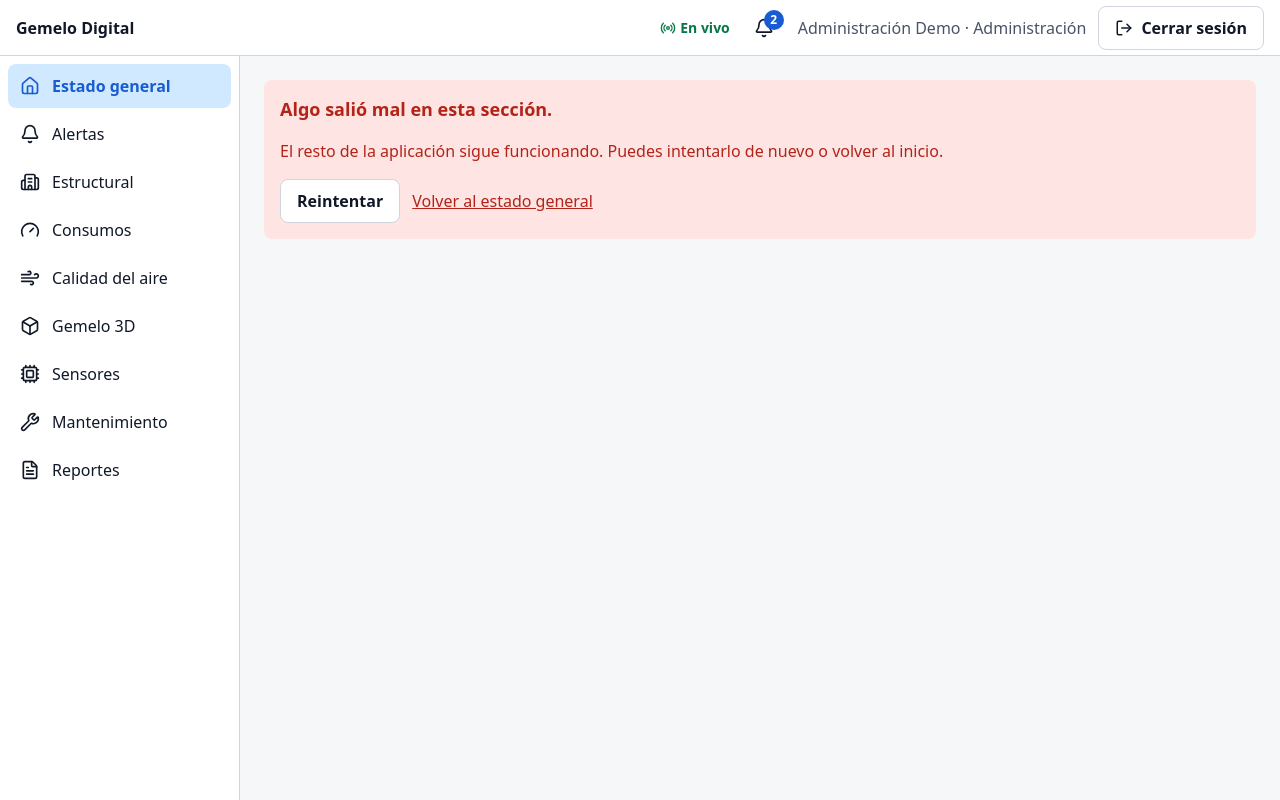
Scenario: RouteErrorBoundary › "Reintentar" vuelve a renderizar la sección
Expected: the heading "Algo salió mal en esta sección." is shown, [280,97,552,121]
Click the button "Reintentar". click: (340, 201)
box: [280,179,400,223]
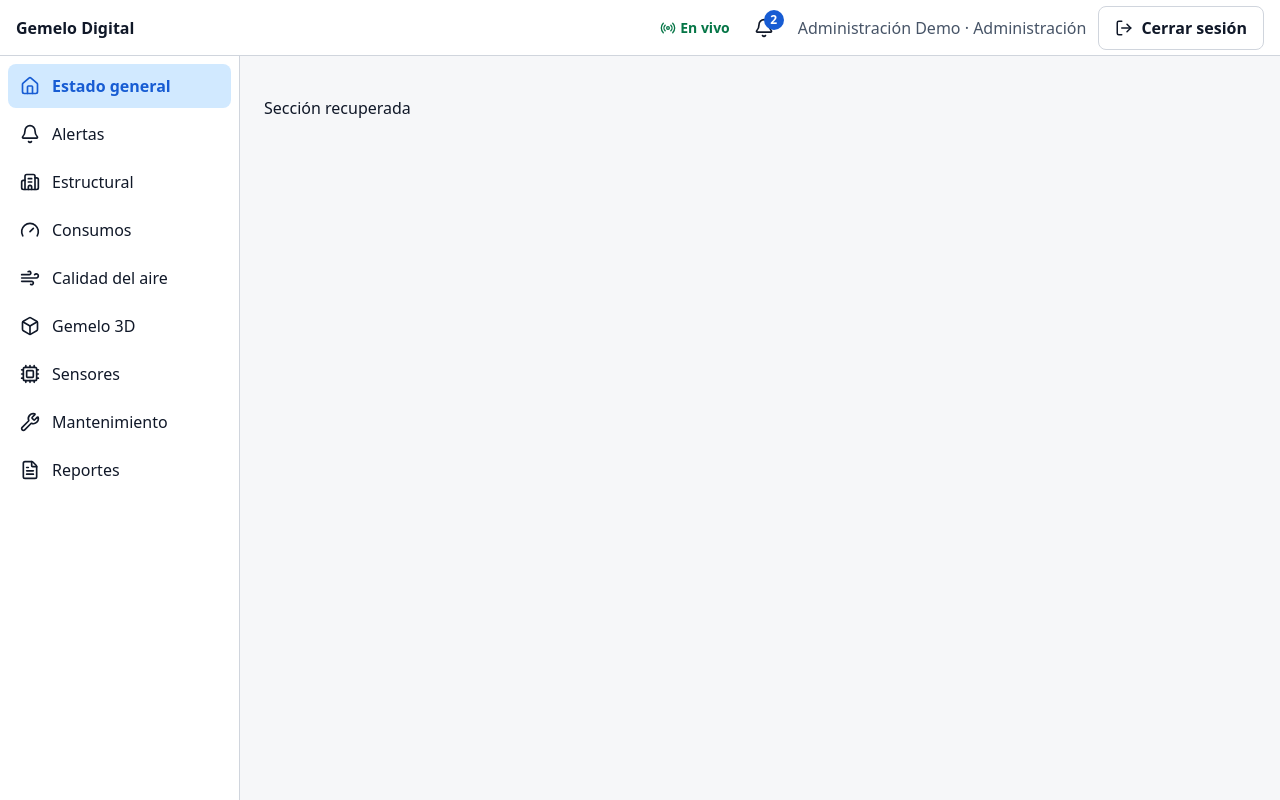
Now the text "Sección recuperada" is shown, box [264,97,411,119]
Now the heading "Algo salió mal en esta sección." is gone
